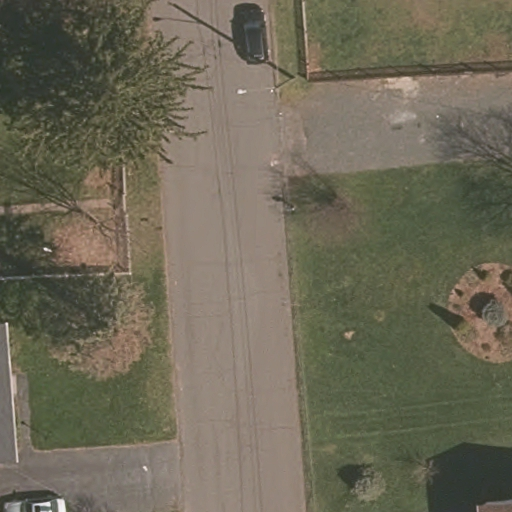DT: (235, 65, 300, 96)
